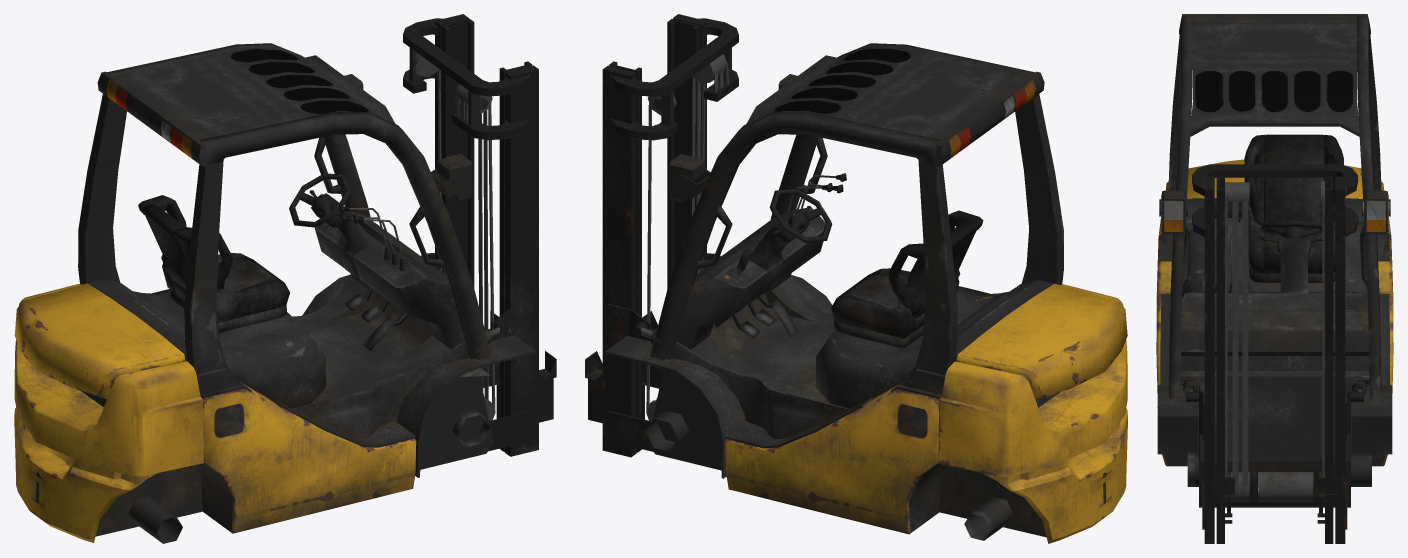
File: body.dae
3 views of the same model, side by side, from view 1: azimuth 30°, elevation 25°; view 2: azimuth 150°, elevation 25°; view 3: azimuth 270°, elevation 25° (orthographic). The views are drawn at different scales.
Visible parts, largest first — view 1: Loader_car_Loader_car_Material_0; view 2: Loader_car_Loader_car_Material_0; view 3: Loader_car_Loader_car_Material_0.
Boxes of the visible parts, left/top/right/bottom form: Loader_car_Loader_car_Material_0: left=14, top=14, right=556, bottom=543; Loader_car_Loader_car_Material_0: left=585, top=14, right=1127, bottom=543; Loader_car_Loader_car_Material_0: left=1156, top=14, right=1393, bottom=543.
Size of the model in its own units: 259 by 116 by 200.
1 material, 1 textured.
